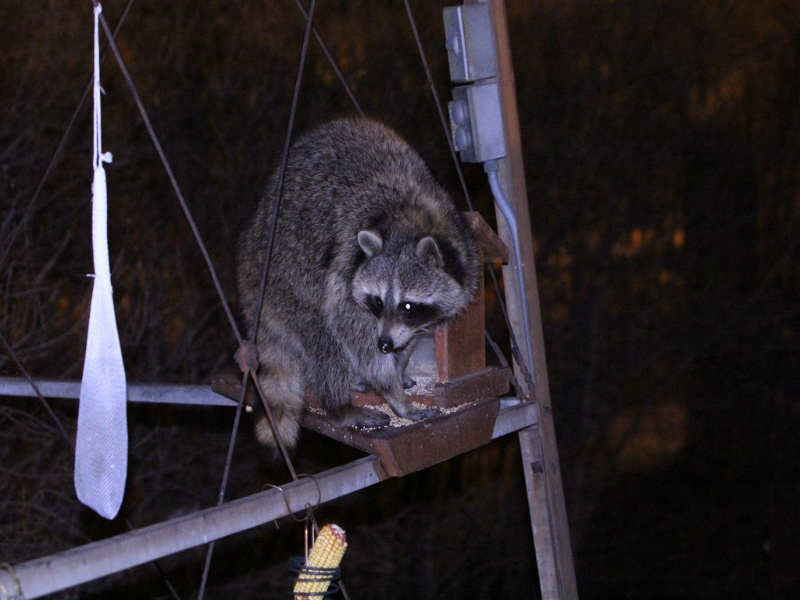raccoon: (240, 113, 479, 456)
